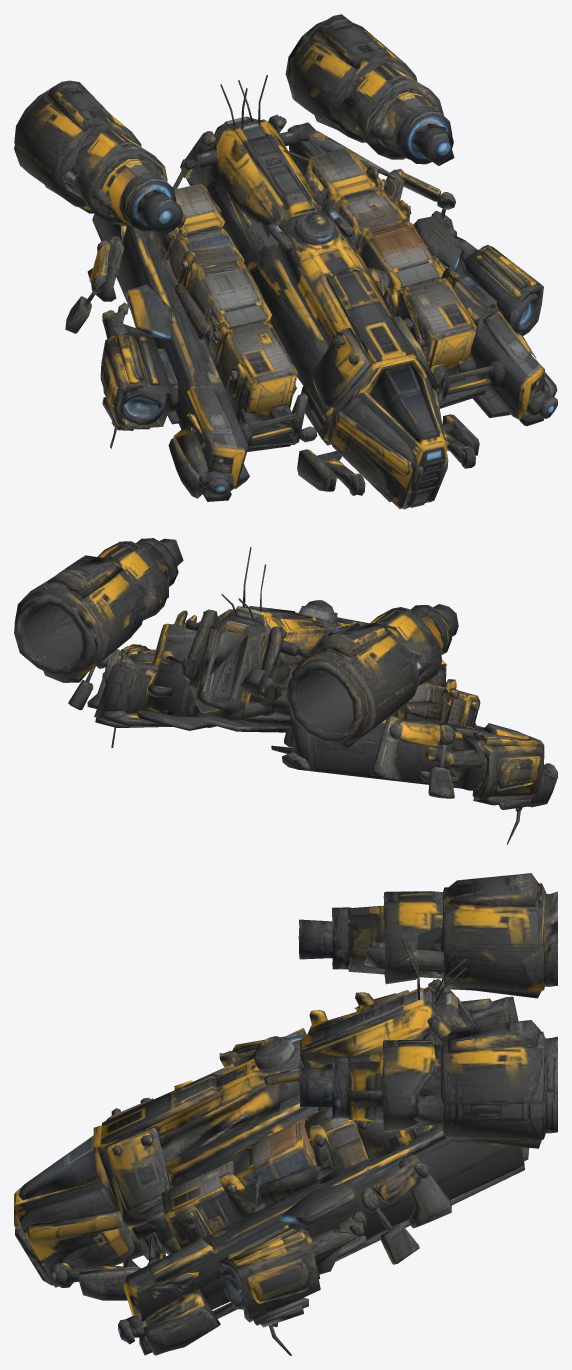
File: atlas.glb
3 renders of one model, top to bottom at view 1: azimuth 30°, elevation 25°; view 2: azimuth 150°, elevation 25°; view 3: azimuth 270°, elevation 25°, orthographic. The views are drawn at different scales.
Parts seen in each view (by area): view 1: mesh_node; view 2: mesh_node; view 3: mesh_node.
Part boxes in pixels (x1=…): mesh_node: x1=14, y1=14, x2=557, y2=509; mesh_node: x1=14, y1=538, x2=557, y2=844; mesh_node: x1=14, y1=873, x2=557, y2=1355.
Size of the model in its own units: 1 by 0.7012 by 1.
1 material, 1 textured.
